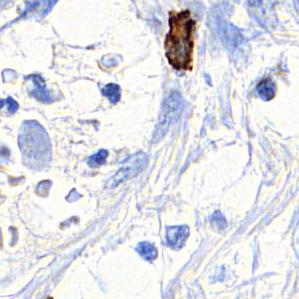Lymphocyte: (163, 8, 198, 72)
